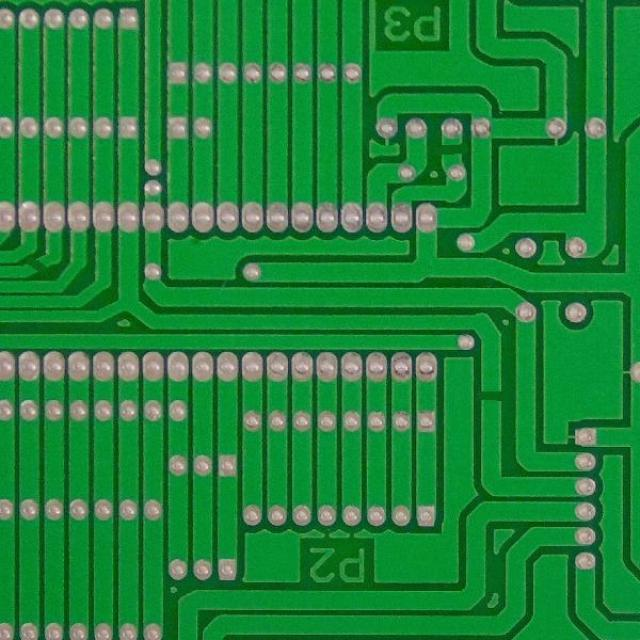open_circuit: (476, 384, 506, 410), (25, 255, 50, 276), (437, 141, 465, 158)
